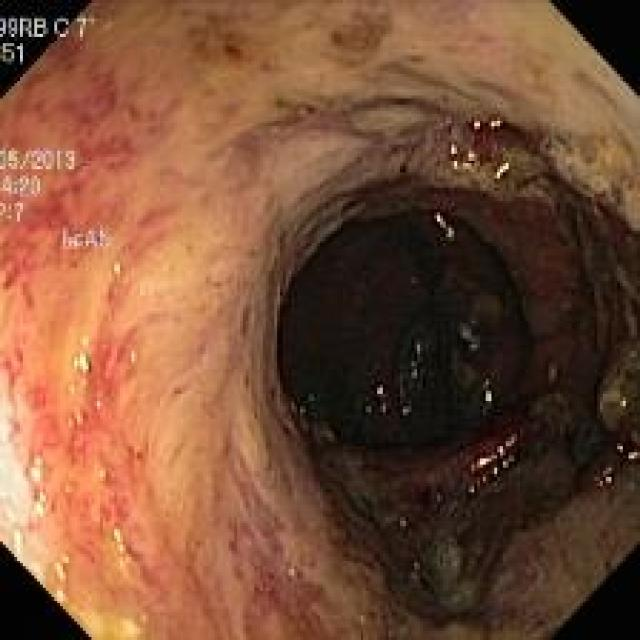ulcerative-colitis-grade-2-3: (1, 3, 640, 639)
